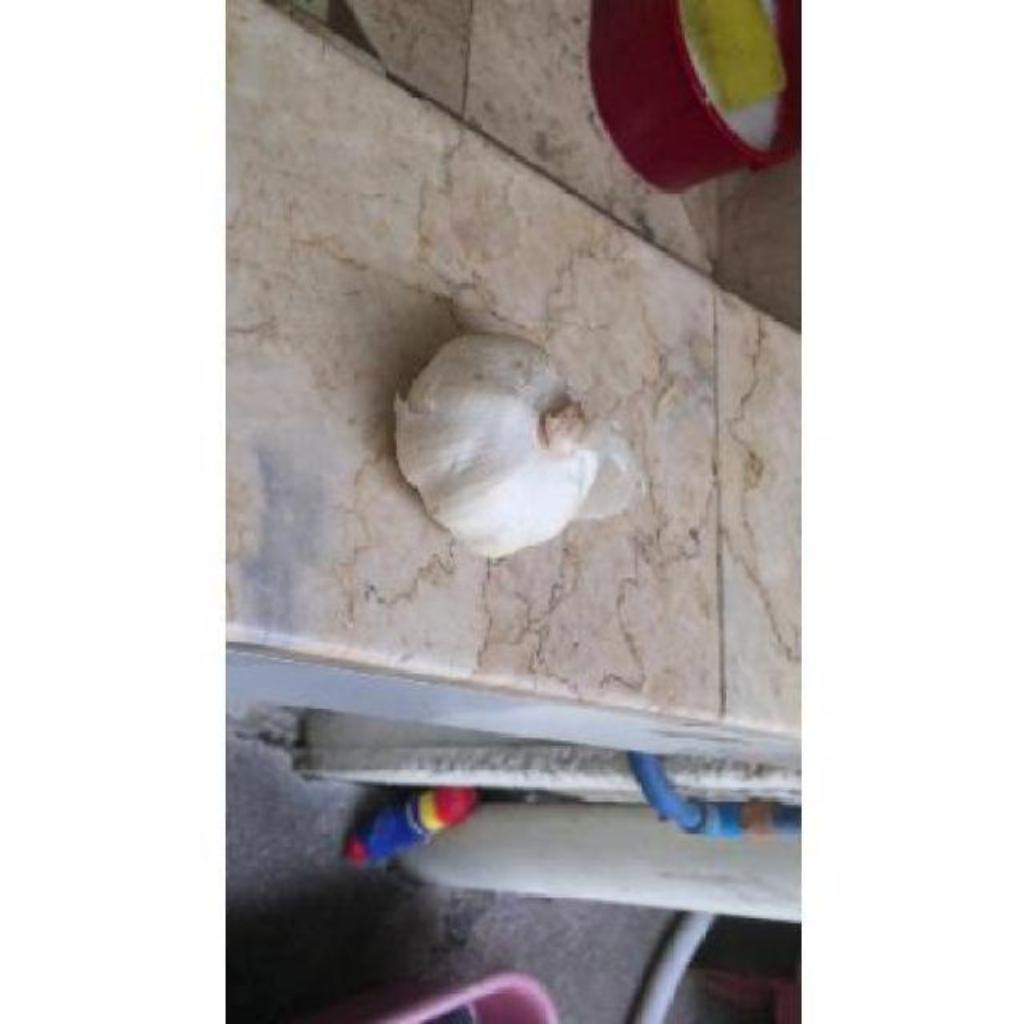garlic: (396, 334, 642, 557)
